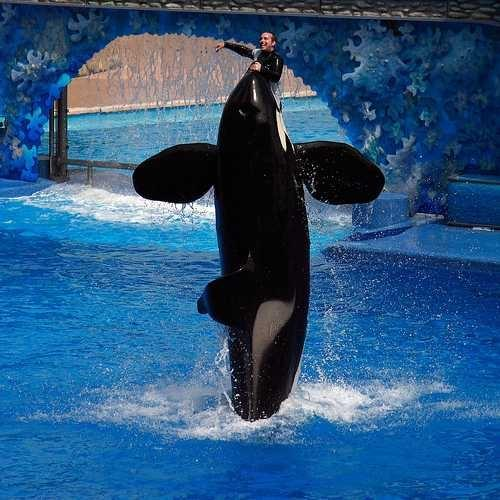killer_whale-endangered: (140, 61, 389, 423)
